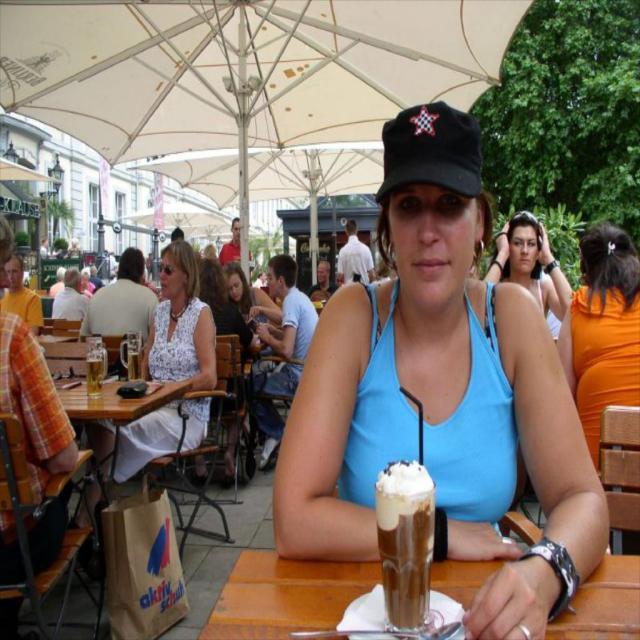Coffee: (375, 463, 447, 630)
